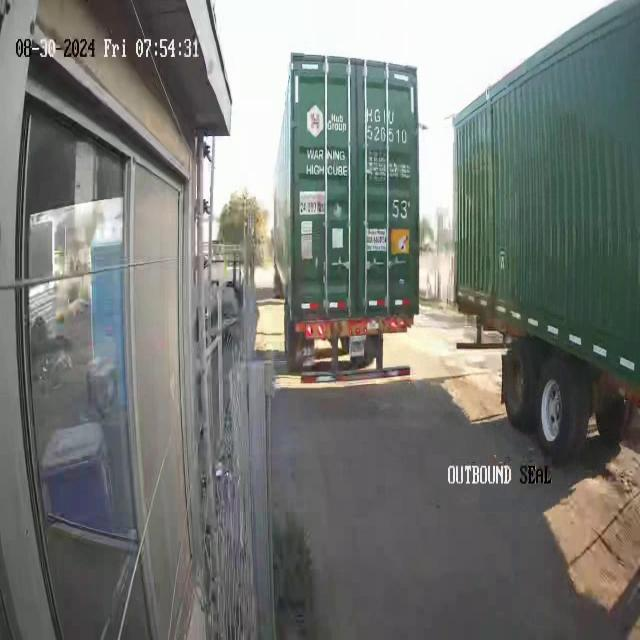TRUCK_IN: (445, 0, 640, 473)
TRUCK_OUT: (270, 54, 418, 390)
